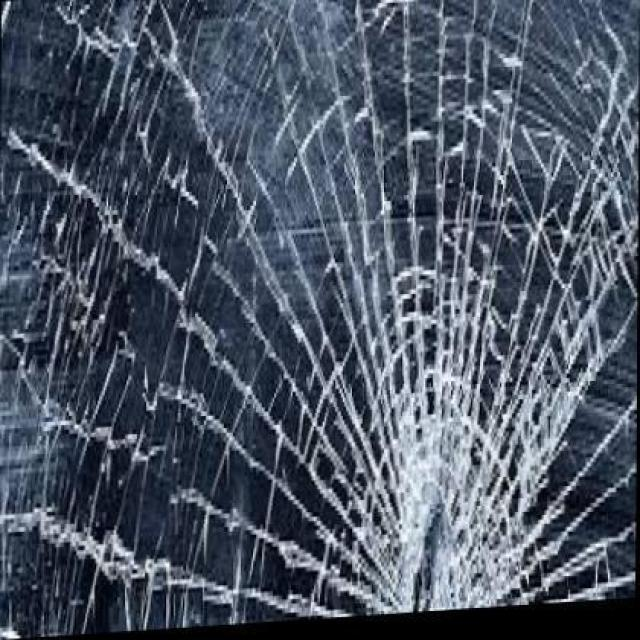cracked: (3, 1, 640, 632)
